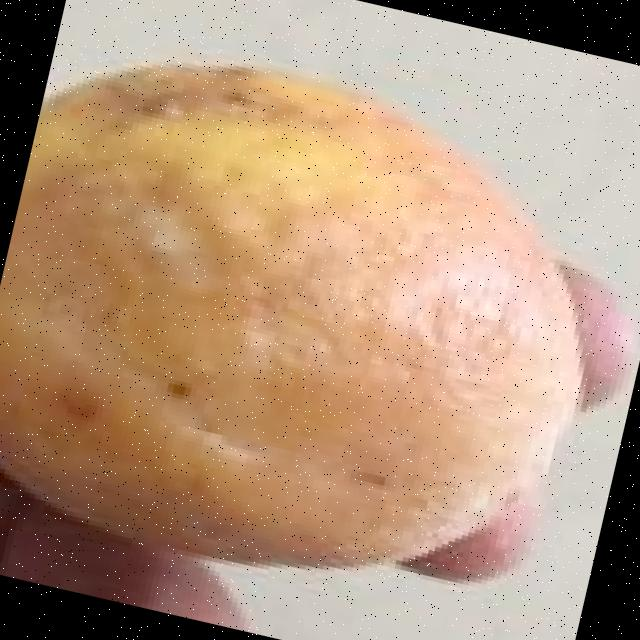Bad_Lime-0-1-day: (0, 66, 626, 582)
